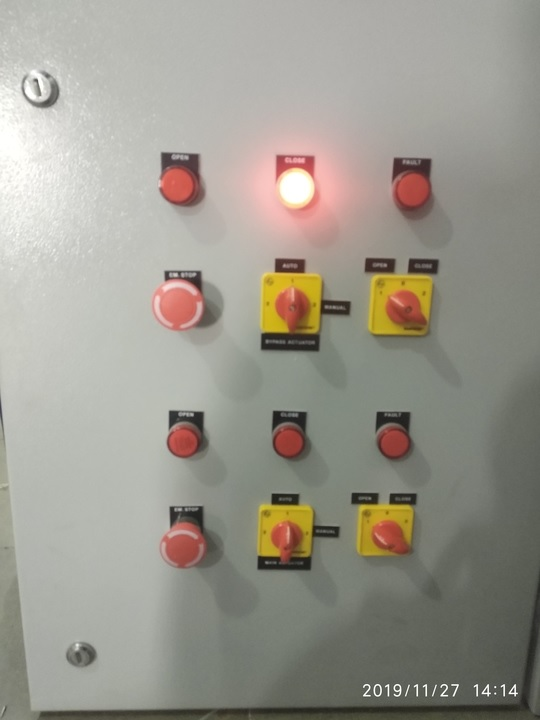Red_Led_Off: (153, 412, 221, 466), (366, 414, 430, 467), (151, 158, 206, 213), (387, 164, 441, 216), (263, 418, 315, 466)
Red_Led_On: (267, 157, 328, 223)
